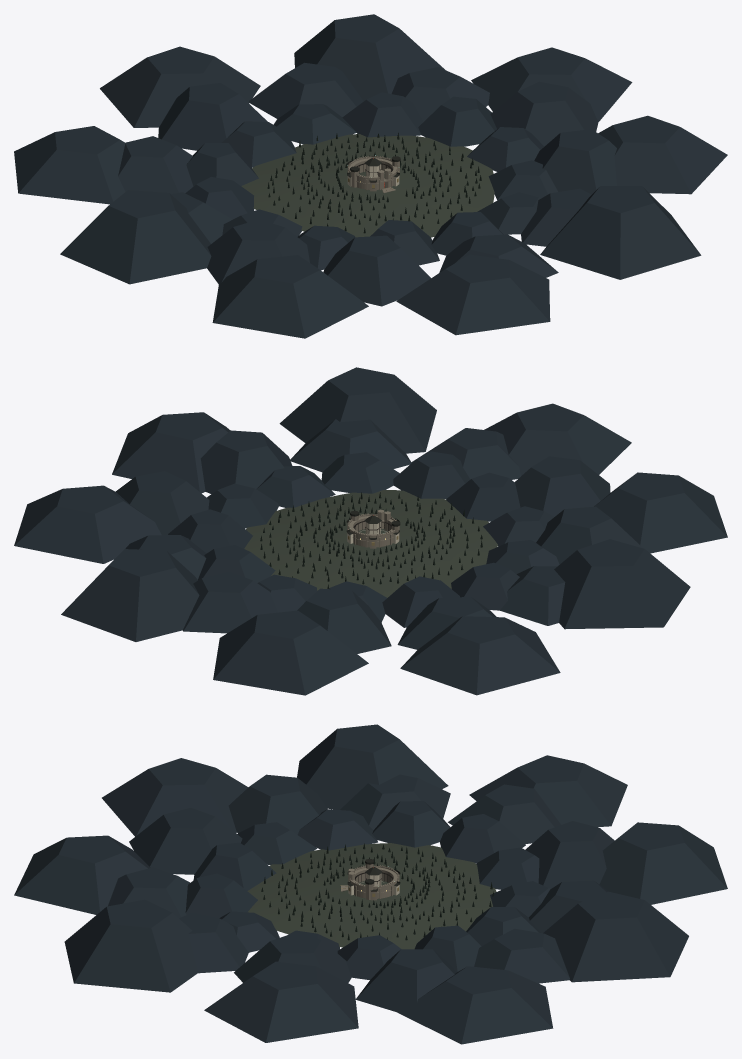
The model's file is citadel.glb.
3 renders of one model, top to bottom at view 1: azimuth 30°, elevation 25°; view 2: azimuth 150°, elevation 25°; view 3: azimuth 270°, elevation 25°, orthographic.
Parts seen in each view (by area): view 1: Ridges, Terrain, Forest, Ring wall; view 2: Ridges, Terrain, Forest, Ring wall; view 3: Ridges, Terrain, Forest, Ring wall.
Part boxes in pixels (bbox=[...]): Ridges: bbox=[14, 14, 727, 338]; Terrain: bbox=[241, 134, 494, 237]; Forest: bbox=[267, 132, 481, 233]; Ring wall: bbox=[348, 158, 398, 189]; Ridges: bbox=[14, 367, 727, 695]; Terrain: bbox=[244, 490, 497, 597]; Forest: bbox=[260, 492, 482, 588]; Ring wall: bbox=[348, 515, 394, 547]; Ridges: bbox=[14, 724, 727, 1044]; Terrain: bbox=[247, 843, 496, 949]; Forest: bbox=[261, 843, 494, 940]; Ring wall: bbox=[350, 867, 398, 898].
Size of the model in its own units: 425 by 30.78 by 436.
Materials: 4 (4 with a texture image).
